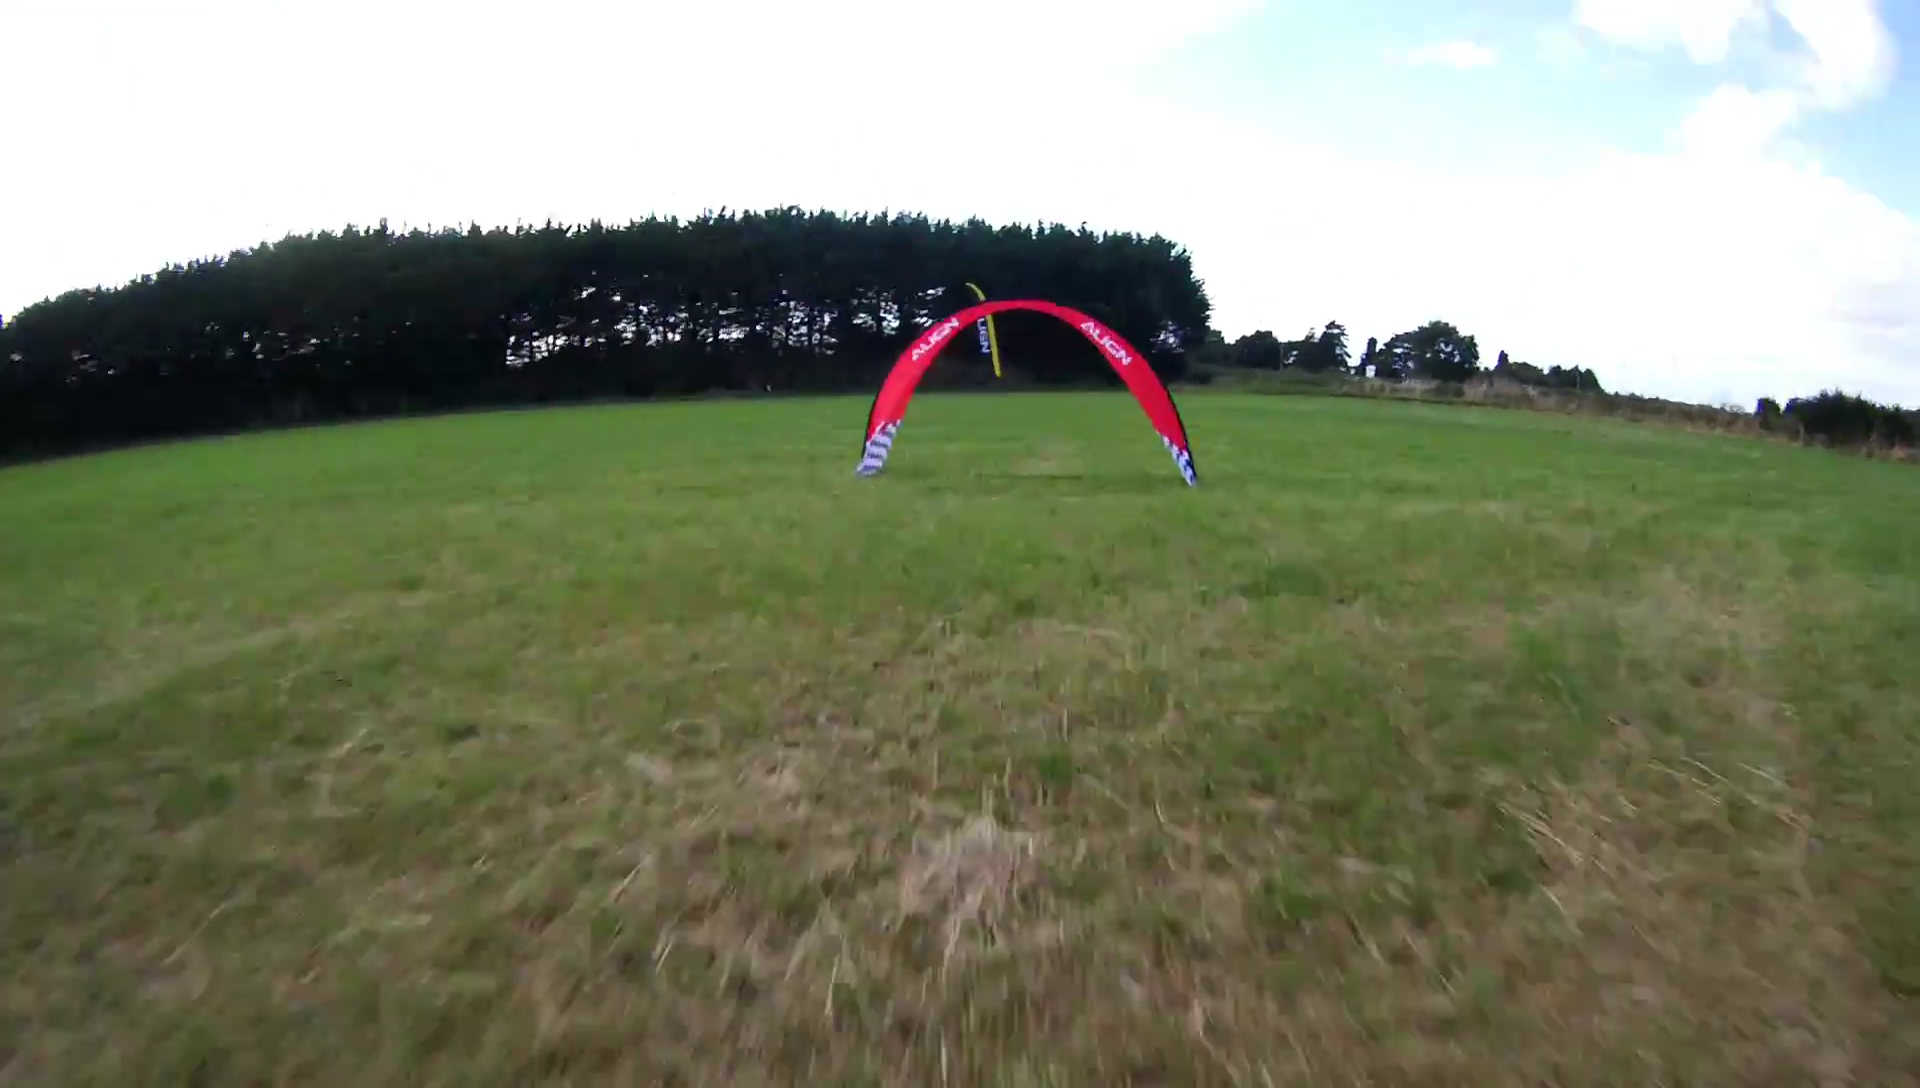gate: (860, 298, 1201, 485)
